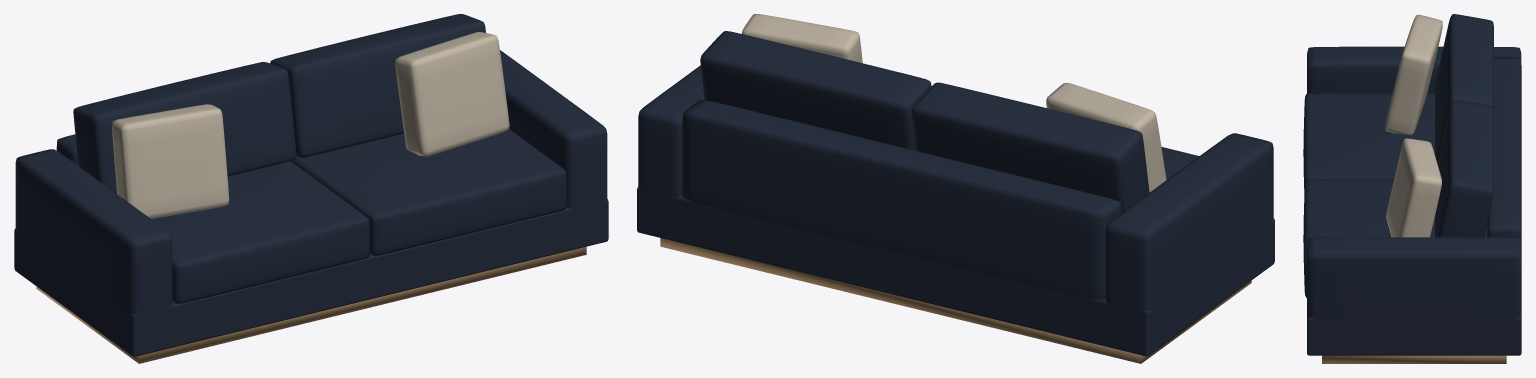
File: living_sofa_ink.gltf
3 renders of one model, left to right at view 1: azimuth 30°, elevation 25°; view 2: azimuth 150°, elevation 25°; view 3: azimuth 270°, elevation 25°, orthographic. The views are drawn at different scales.
Parts seen in each view (by area): view 1: LivingSofaInk_Deck, LivingSofaInk_Seat1, LivingSofaInk_Seat0, LivingSofaInk_ArmL, LivingSofaInk_BackCushion1, LivingSofaInk_BackCushion0, LivingSofaInk_Pillow0, LivingSofaInk_Pillow1, LivingSofaInk_ArmR, LivingSofaInk_Plinth; view 2: LivingSofaInk_BackFrame, LivingSofaInk_Deck, LivingSofaInk_ArmL, LivingSofaInk_BackCushion0, LivingSofaInk_BackCushion1, LivingSofaInk_ArmR, LivingSofaInk_Plinth, LivingSofaInk_Pillow0, LivingSofaInk_Pillow1, LivingSofaInk_Seat0; view 3: LivingSofaInk_ArmR, LivingSofaInk_Seat0, LivingSofaInk_BackCushion1, LivingSofaInk_Seat1, LivingSofaInk_BackFrame, LivingSofaInk_BackCushion0, LivingSofaInk_Deck, LivingSofaInk_ArmL, LivingSofaInk_Pillow1, LivingSofaInk_Pillow0, LivingSofaInk_Plinth.
Part boxes in pixels (<box>): LivingSofaInk_Deck: <box>14,199,608,356</box>; LivingSofaInk_Seat1: <box>291,129,566,255</box>; LivingSofaInk_Seat0: <box>151,161,369,303</box>; LivingSofaInk_ArmL: <box>15,149,172,332</box>; LivingSofaInk_BackCushion1: <box>270,14,485,157</box>; LivingSofaInk_BackCushion0: <box>73,62,296,193</box>; LivingSofaInk_Pillow0: <box>112,104,229,218</box>; LivingSofaInk_Pillow1: <box>395,32,509,156</box>; LivingSofaInk_ArmR: <box>500,50,607,225</box>; LivingSofaInk_Plinth: <box>36,246,586,363</box>; LivingSofaInk_BackFrame: <box>682,99,1121,300</box>; LivingSofaInk_Deck: <box>637,186,1274,356</box>; LivingSofaInk_ArmL: <box>1105,133,1273,329</box>; LivingSofaInk_BackCushion0: <box>911,82,1149,212</box>; LivingSofaInk_BackCushion1: <box>700,31,931,150</box>; LivingSofaInk_ArmR: <box>638,65,704,215</box>; LivingSofaInk_Plinth: <box>660,238,1251,363</box>; LivingSofaInk_Pillow0: <box>1046,83,1166,192</box>; LivingSofaInk_Pillow1: <box>741,14,862,63</box>; LivingSofaInk_Seat0: <box>1161,147,1199,179</box>; LivingSofaInk_ArmR: <box>1307,237,1521,339</box>; LivingSofaInk_Seat0: <box>1303,93,1434,192</box>; LivingSofaInk_BackCushion1: <box>1435,100,1493,237</box>; LivingSofaInk_Seat1: <box>1303,179,1485,297</box>; LivingSofaInk_BackFrame: <box>1487,57,1521,255</box>; LivingSofaInk_BackCushion0: <box>1434,14,1493,162</box>; LivingSofaInk_Deck: <box>1307,224,1521,355</box>; LivingSofaInk_ArmL: <box>1307,46,1521,93</box>; LivingSofaInk_Pillow1: <box>1386,138,1441,237</box>; LivingSofaInk_Pillow0: <box>1385,14,1442,134</box>; LivingSofaInk_Plinth: <box>1322,355,1506,363</box>.
Bounding box in the file's own units: 2.3 × 0.8771 × 1.02.
